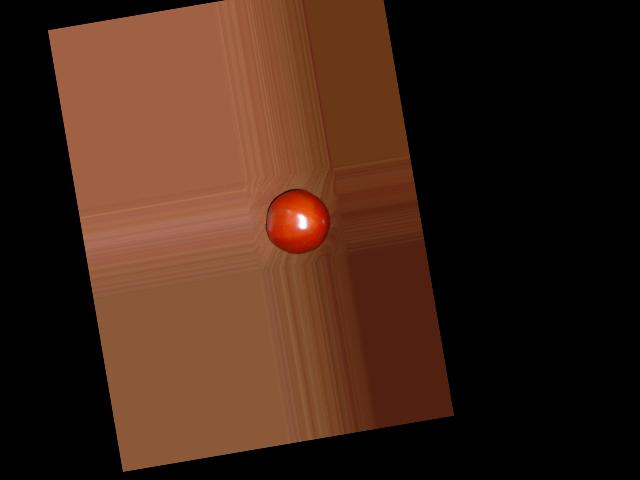tomato: (260, 184, 335, 259)
